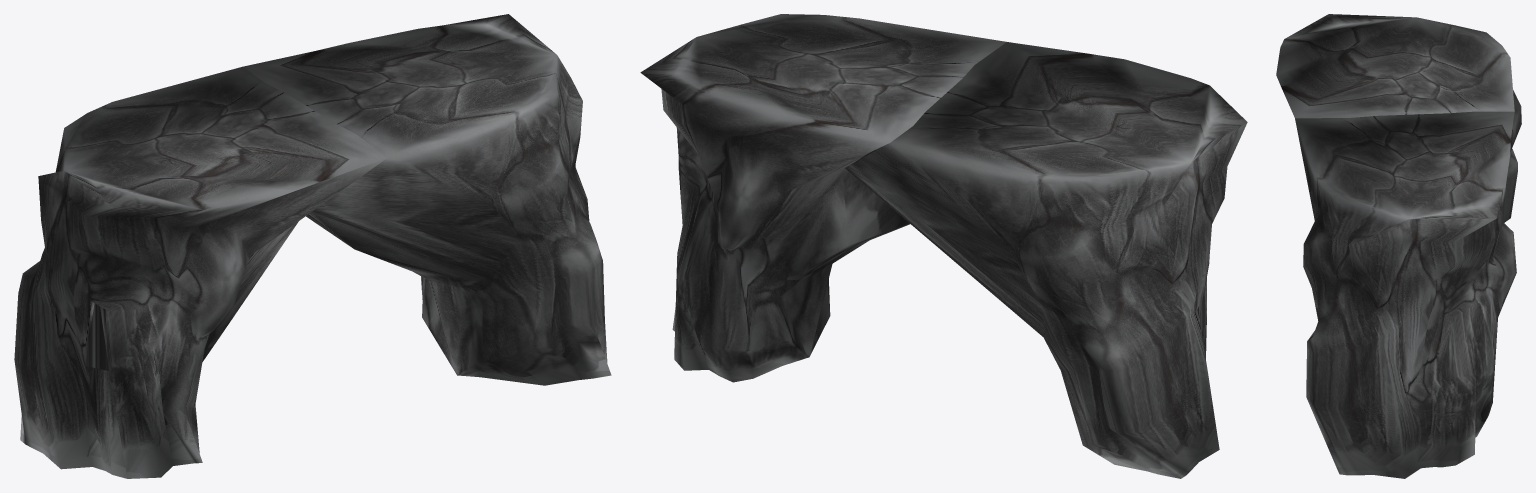
Rendered from Rock3_001.fbx.
The picture shows the model from 3 angles, left to right: view 1: azimuth 30°, elevation 25°; view 2: azimuth 150°, elevation 25°; view 3: azimuth 270°, elevation 25°; orthographic projection. The views are drawn at different scales.
Parts seen in each view (by area): view 1: rock1.001; view 2: rock1.001; view 3: rock1.001.
Part boxes in pixels (<box>): rock1.001: <box>14,14,611,478</box>; rock1.001: <box>640,14,1247,478</box>; rock1.001: <box>1276,14,1521,478</box>.
Bounding box in the file's own units: 1357 × 727 × 639.
